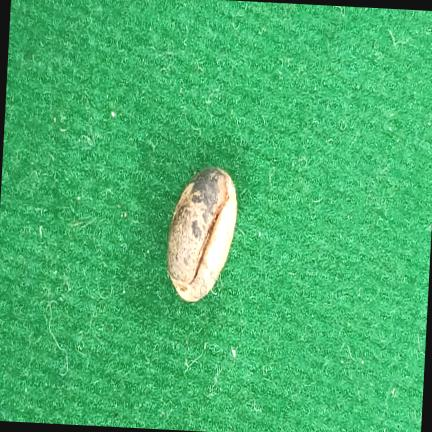partial-black: (167, 167, 237, 302)
